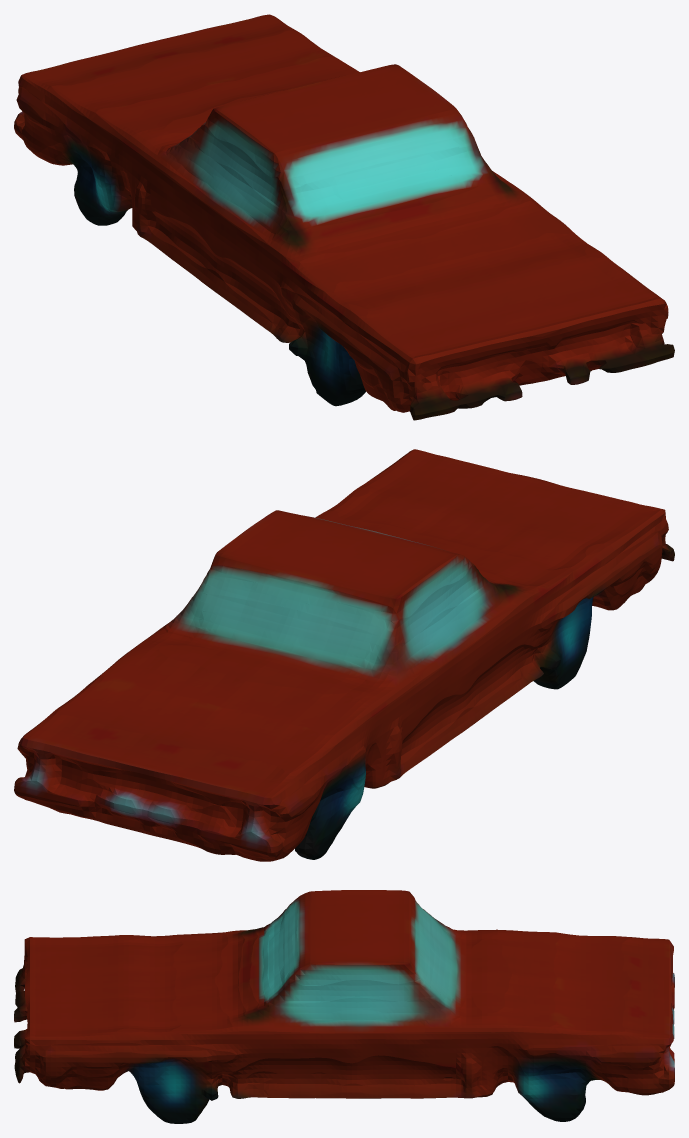
File: tmpdbnjjjvv.glb
3 views of the same model, one above another, from view 1: azimuth 30°, elevation 25°; view 2: azimuth 150°, elevation 25°; view 3: azimuth 270°, elevation 25° (orthographic). The views are drawn at different scales.
Parts seen in each view (by area): view 1: tmpgiaep4ur.ply; view 2: tmpgiaep4ur.ply; view 3: tmpgiaep4ur.ply.
Boxes of the visible parts, x1,y1,x2,y2 form: tmpgiaep4ur.ply: (14, 14, 674, 420); tmpgiaep4ur.ply: (14, 449, 674, 861); tmpgiaep4ur.ply: (14, 890, 674, 1123).
Bounding box in the file's own units: 0.7705 × 0.498 × 1.97.
